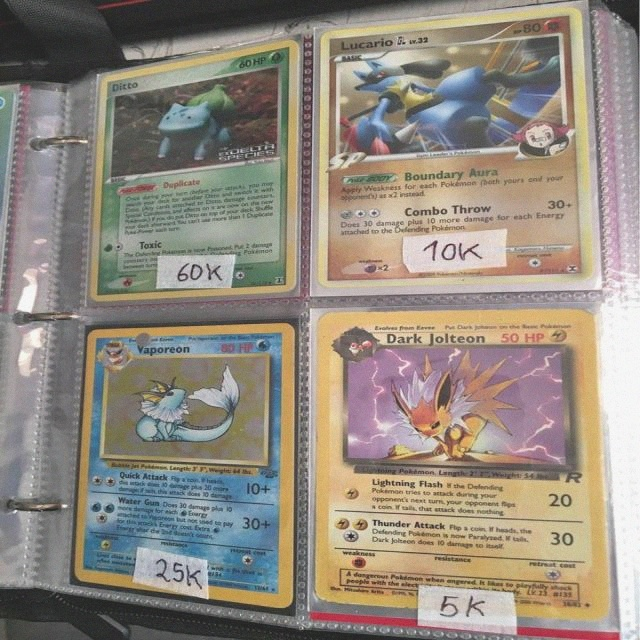card: (314, 308, 610, 620), (317, 7, 595, 289), (73, 323, 295, 609), (88, 39, 298, 302)
